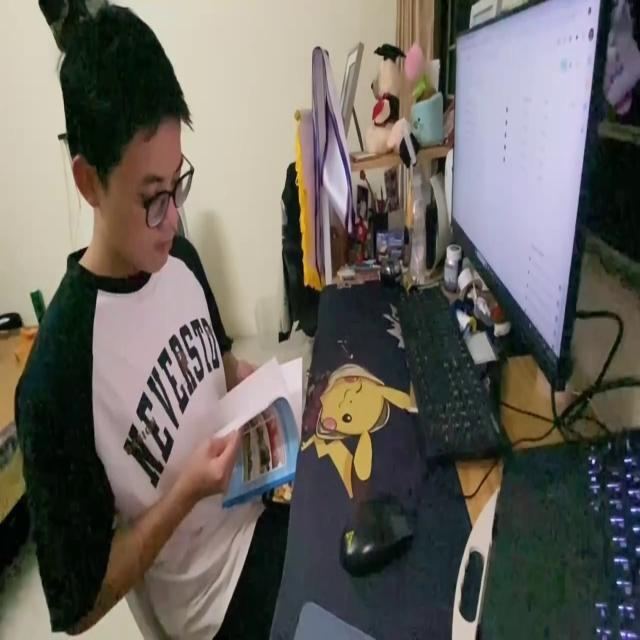book: (207, 349, 308, 502)
laptop: (447, 0, 618, 396), (478, 424, 640, 640)
student: (8, 0, 286, 640)
